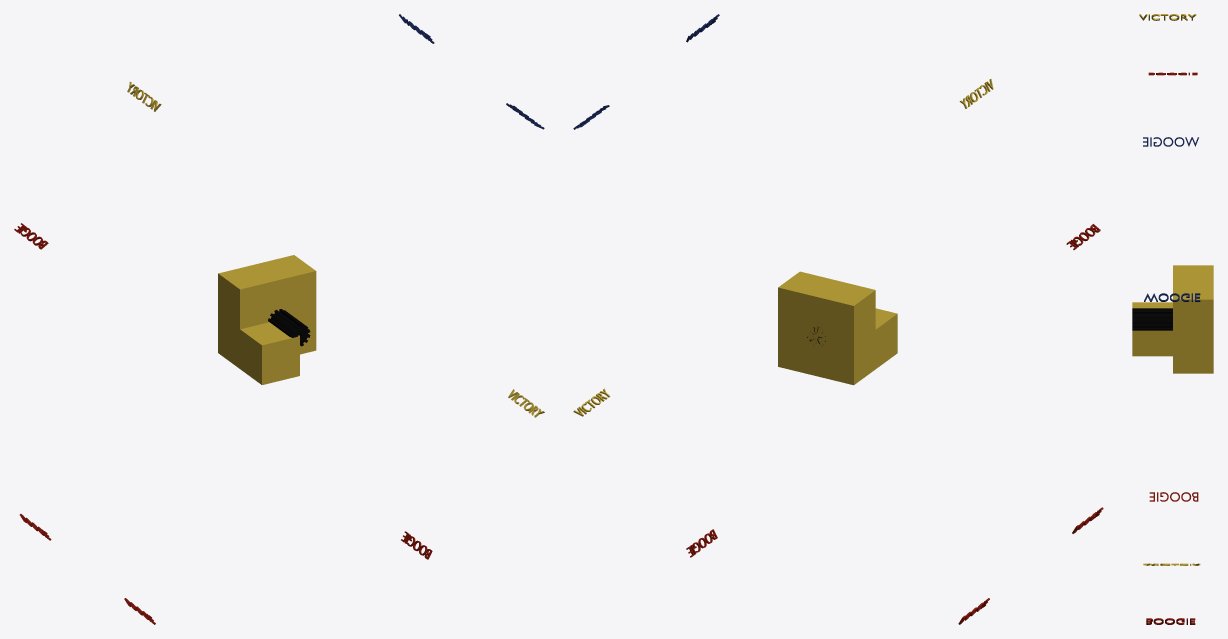
The model's file is rot_long_bridge2.gltf.
The picture shows the model from 3 angles, left to right: view 1: azimuth 30°, elevation 25°; view 2: azimuth 150°, elevation 25°; view 3: azimuth 270°, elevation 25°; orthographic projection. The views are drawn at different scales.
Visible parts, largest first — view 1: rot.long.bridge2; view 2: rot.long.bridge2; view 3: rot.long.bridge2.
Boxes of the visible parts, <box> form: rot.long.bridge2: <box>14,14,544,624</box>; rot.long.bridge2: <box>573,14,1103,624</box>; rot.long.bridge2: <box>1132,14,1213,624</box>.
Bounding box in the file's own units: 39.58 × 39.58 × 6.
